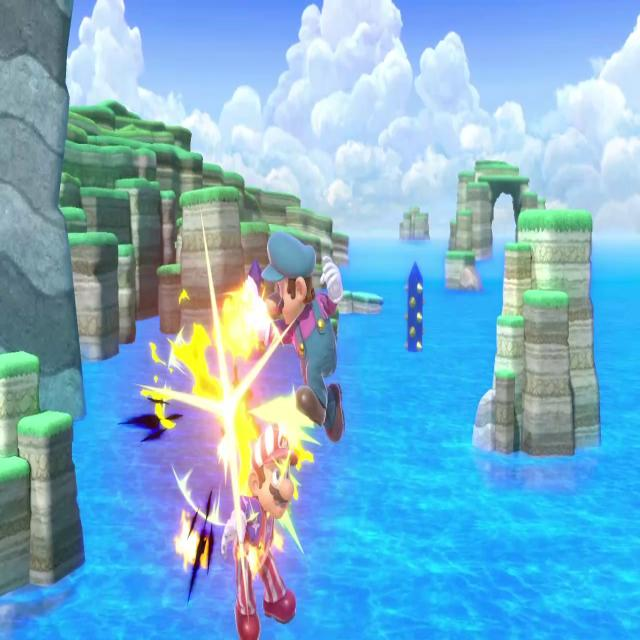Mario: (218, 419, 306, 640)
Mario-NB: (244, 220, 351, 448)
